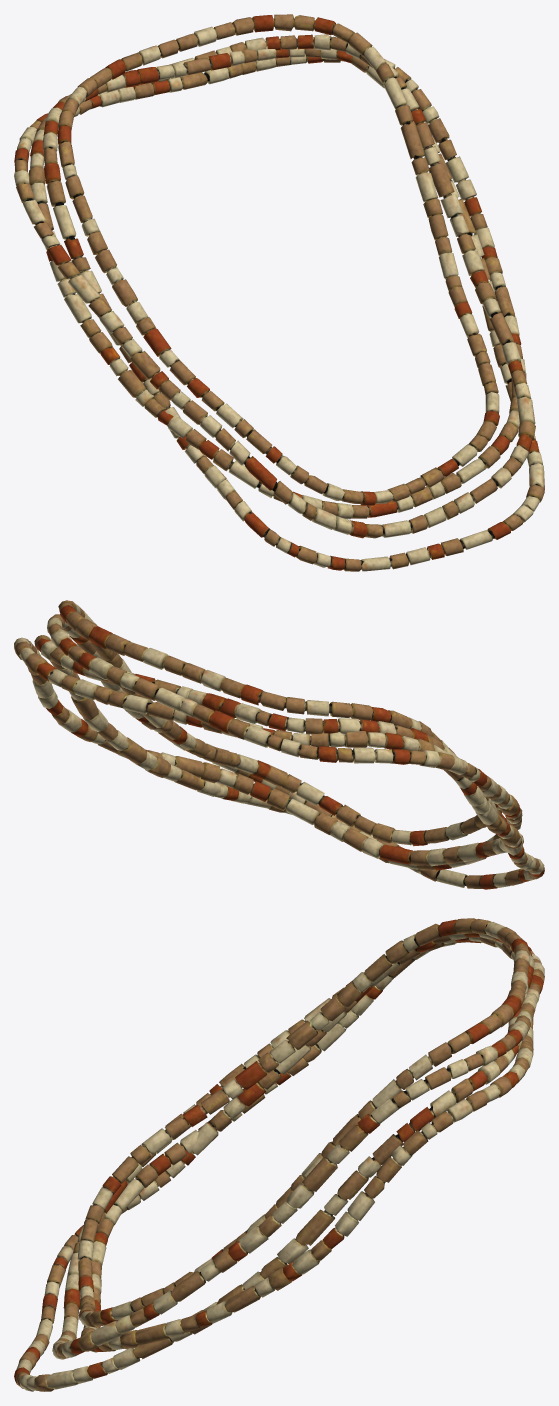
The model's file is SM_CollarCeramica.glb.
The picture shows the model from 3 angles, top to bottom: view 1: azimuth 30°, elevation 25°; view 2: azimuth 150°, elevation 25°; view 3: azimuth 270°, elevation 25°; orthographic projection. The views are drawn at different scales.
Visible parts, largest first — view 1: CChaq_01_Low, CChaq_03_Low, CChaq_04_Low, CChaq_02_Low; view 2: CChaq_04_Low, CChaq_01_Low, CChaq_02_Low, CChaq_03_Low; view 3: CChaq_01_Low, CChaq_02_Low, CChaq_04_Low, CChaq_03_Low.
Boxes of the visible parts, <box> form: CChaq_01_Low: <box>58,14,499,505</box>; CChaq_03_Low: <box>14,34,535,538</box>; CChaq_04_Low: <box>29,54,526,519</box>; CChaq_02_Low: <box>43,46,544,571</box>; CChaq_04_Low: <box>14,637,523,866</box>; CChaq_01_Low: <box>58,600,502,846</box>; CChaq_02_Low: <box>34,635,544,889</box>; CChaq_03_Low: <box>47,614,522,870</box>; CChaq_01_Low: <box>77,918,530,1327</box>; CChaq_02_Low: <box>14,933,534,1391</box>; CChaq_04_Low: <box>81,937,533,1352</box>; CChaq_03_Low: <box>52,941,544,1359</box>.
Bounding box in the file's own units: 0.1907 × 0.1612 × 0.196.
1 material, 1 textured.
